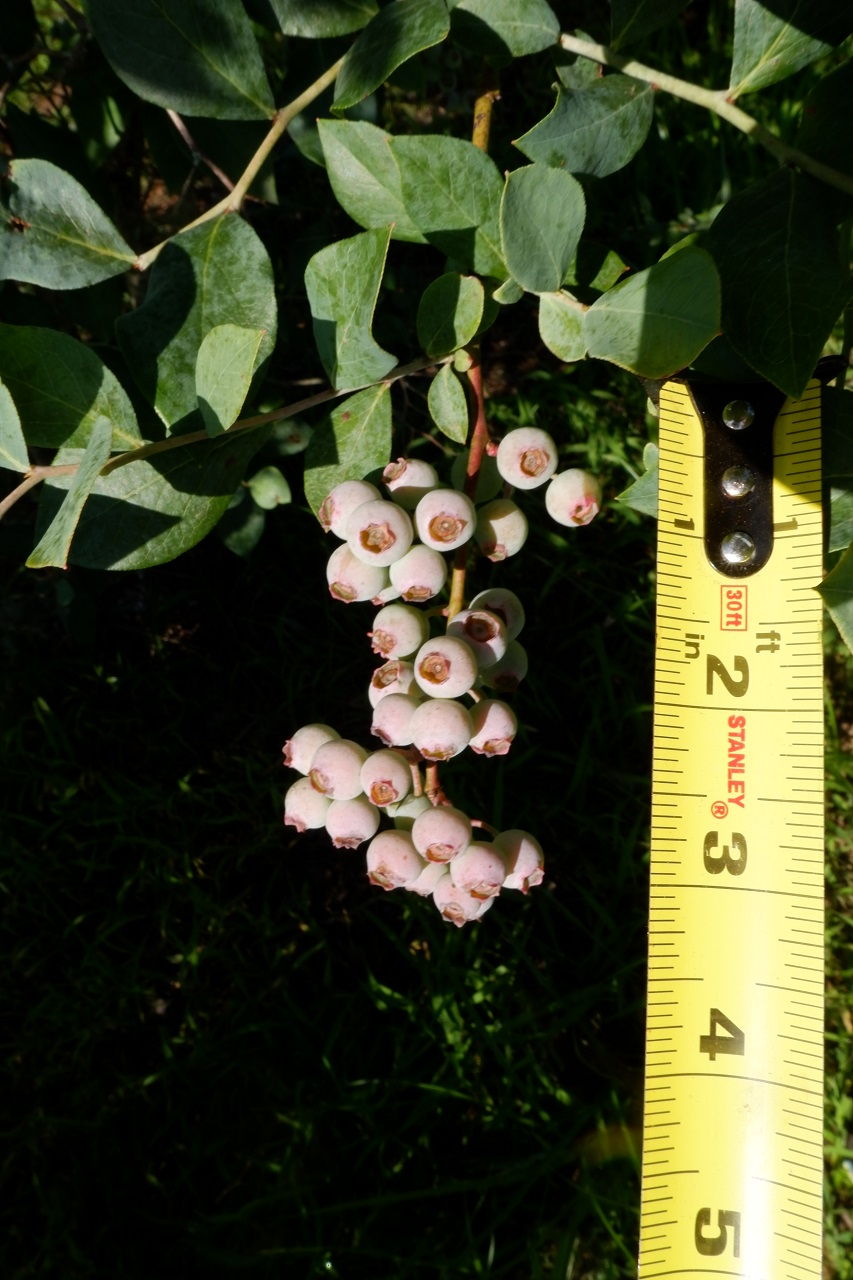Immature: (347, 499, 414, 566), (409, 698, 475, 761), (414, 636, 479, 699), (414, 488, 477, 552), (496, 427, 559, 489), (318, 480, 382, 541), (308, 738, 370, 799), (447, 608, 510, 668), (327, 542, 388, 602), (450, 841, 508, 904), (411, 805, 472, 864), (367, 604, 429, 661), (367, 828, 423, 891), (474, 498, 529, 562), (368, 658, 435, 709), (389, 544, 447, 602), (545, 467, 602, 526), (493, 830, 545, 894), (325, 789, 380, 849), (283, 723, 342, 776), (381, 457, 439, 510), (360, 749, 413, 807), (451, 449, 504, 503), (469, 588, 525, 639), (284, 775, 334, 832), (469, 699, 517, 757), (371, 692, 422, 746), (433, 872, 481, 928), (477, 639, 527, 691), (403, 857, 450, 896), (395, 793, 434, 833), (369, 565, 400, 604), (474, 896, 494, 919)
